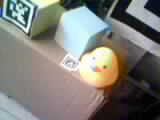duck: (68, 43, 110, 81)
